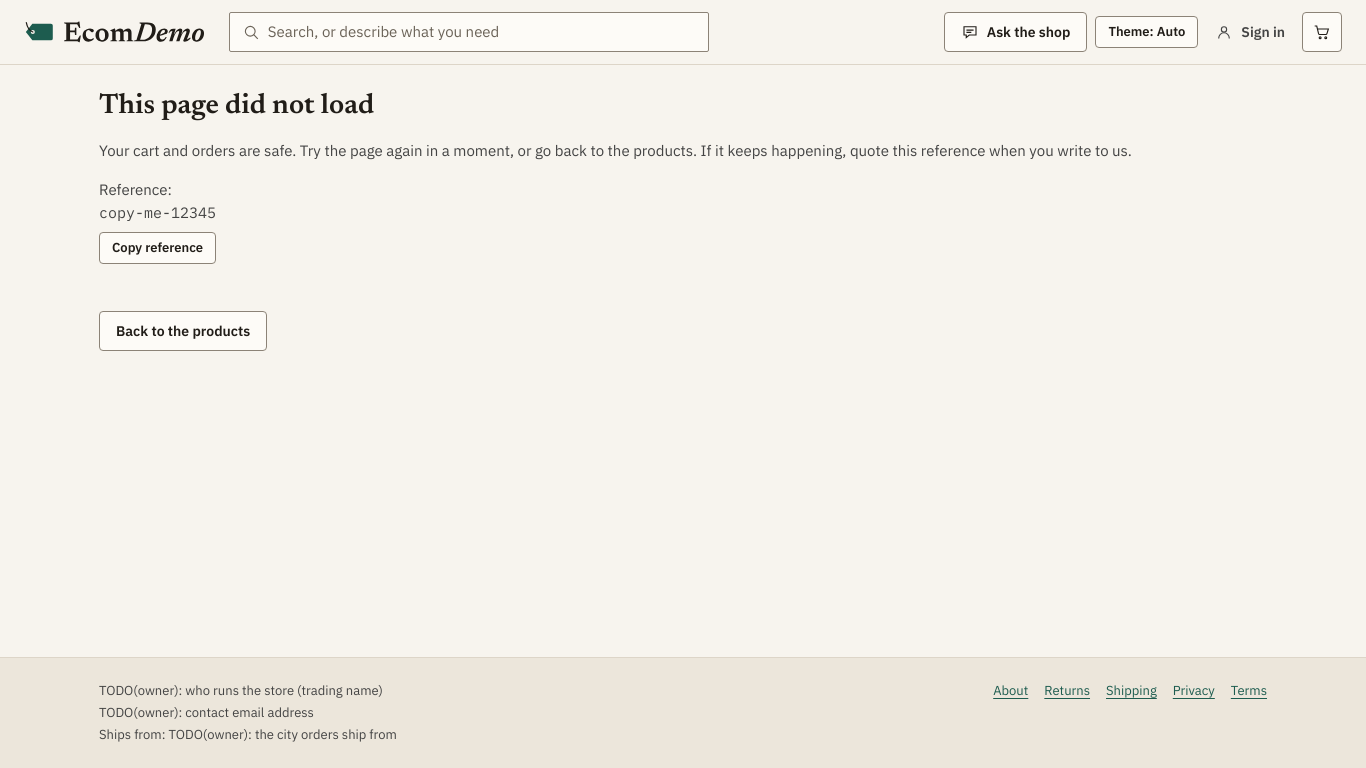
Test: the reference › is copied by the button, which says so
Click the button "Copy reference" at {"x": 158, "y": 248}, box [99,232,216,264]
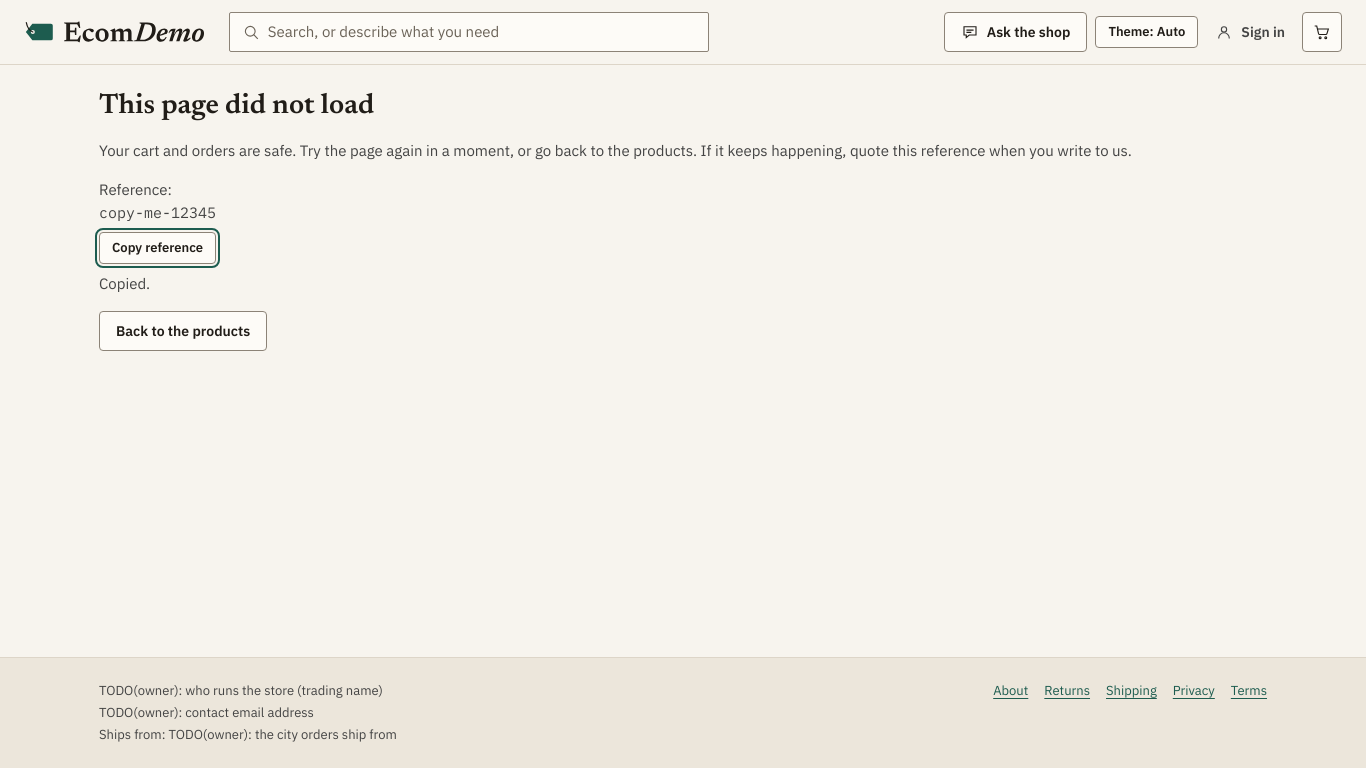
Check: the text "Copied." is shown, box [99,272,150,295]
